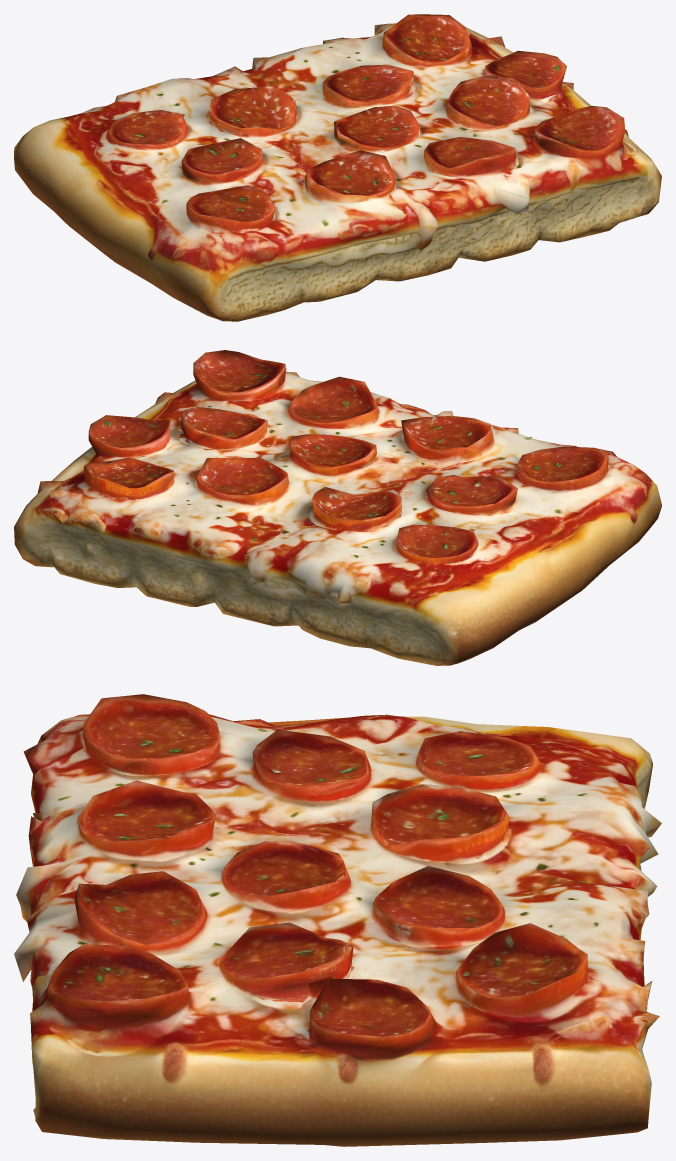
File: pepperoni_pizza.glb
3 renders of one model, top to bottom at view 1: azimuth 30°, elevation 25°; view 2: azimuth 150°, elevation 25°; view 3: azimuth 270°, elevation 25°, orthographic. The views are drawn at different scales.
Visible parts, largest first — view 1: Mesh10; view 2: Mesh10; view 3: Mesh10.
Part boxes in pixels (x1,y1,x2,y2): Mesh10: [14, 14, 661, 321]; Mesh10: [14, 350, 661, 665]; Mesh10: [14, 694, 661, 1146].
Size of the model in its own units: 1.91 by 0.3728 by 1.43.
Materials: 1 (1 with a texture image).
